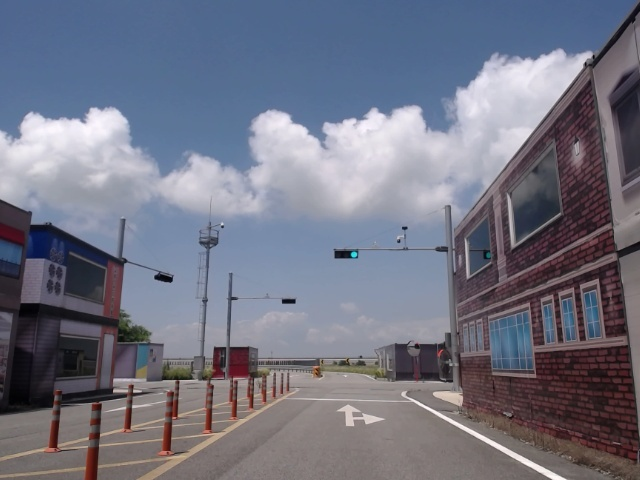green_3: (335, 251, 358, 259)
